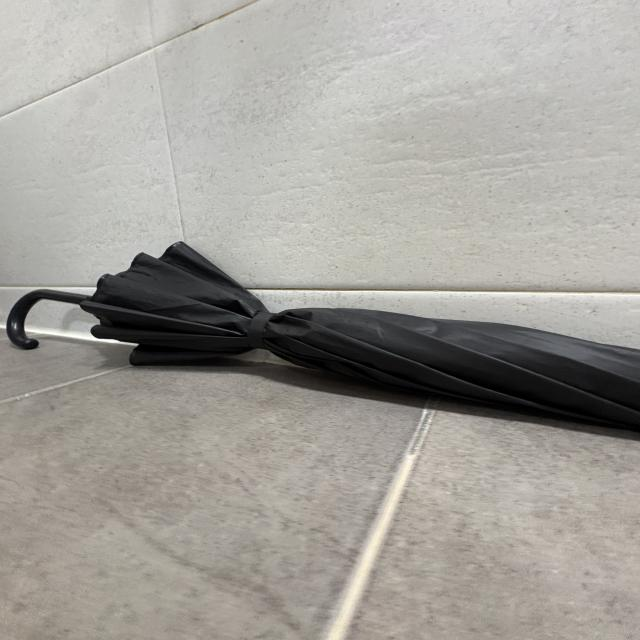umbrella: (10, 241, 640, 438)
